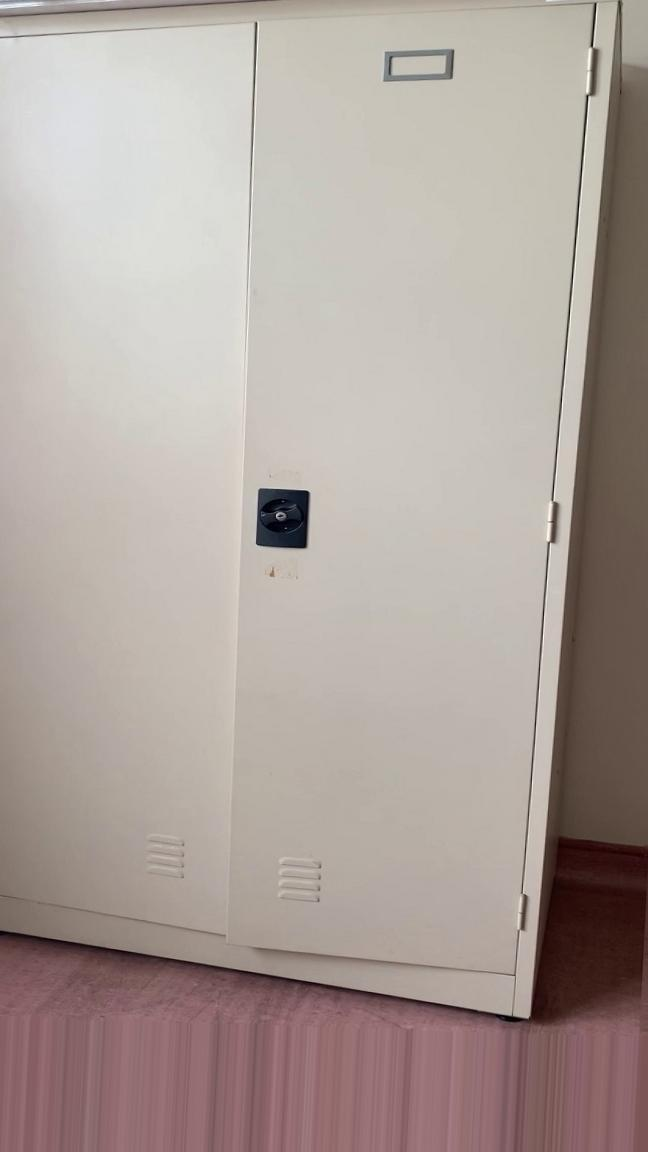Armario: (5, 4, 610, 1029)
